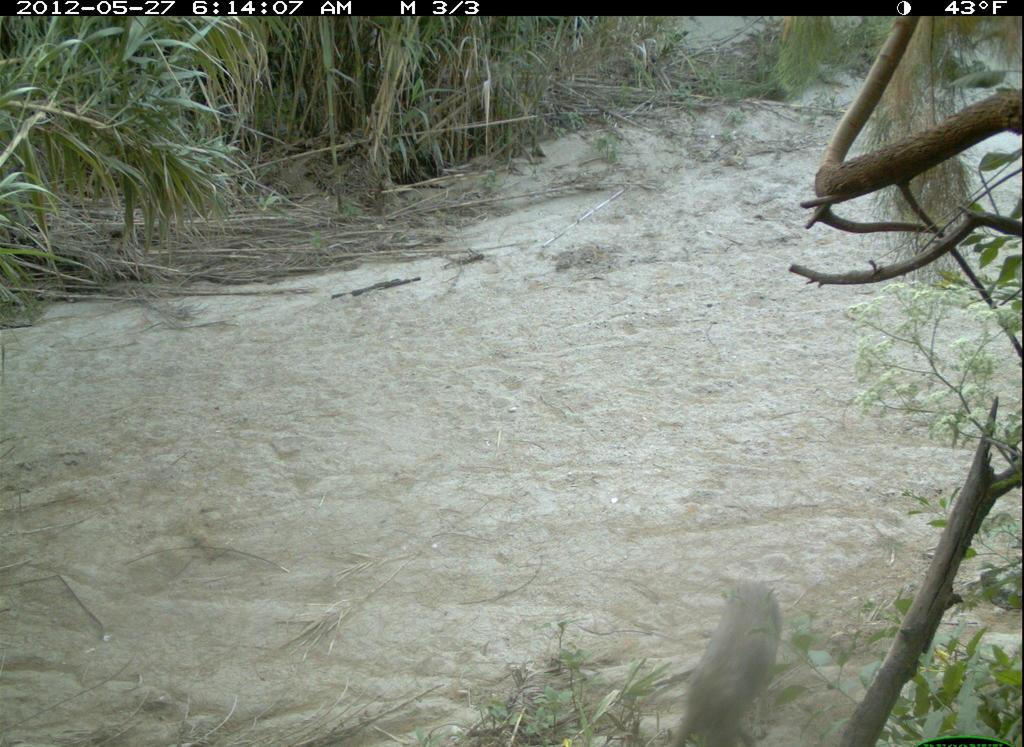coyote: (675, 579, 799, 745)
